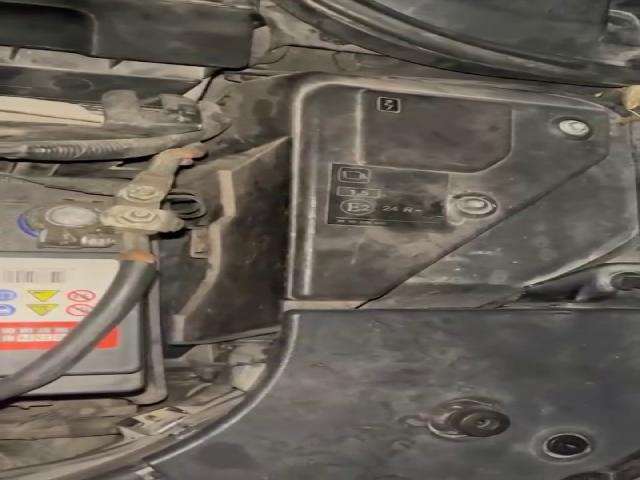accumulator: (4, 173, 171, 400)
fuse_box: (163, 71, 627, 337)
